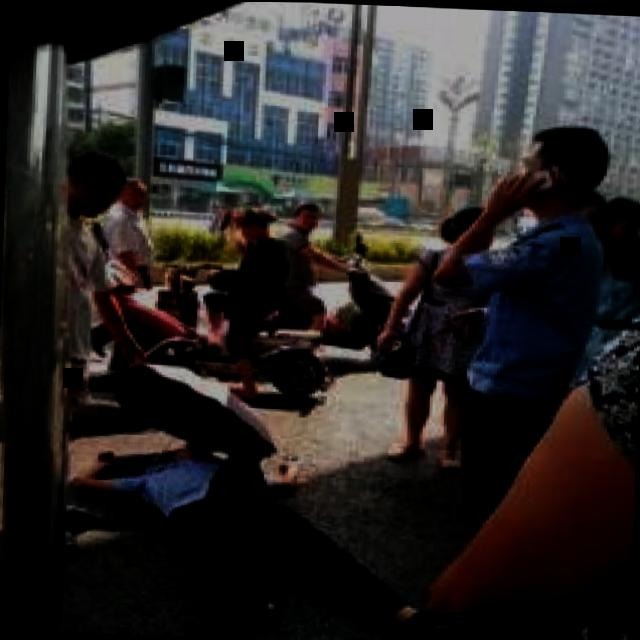Fall-Detected: (46, 401, 452, 640)
